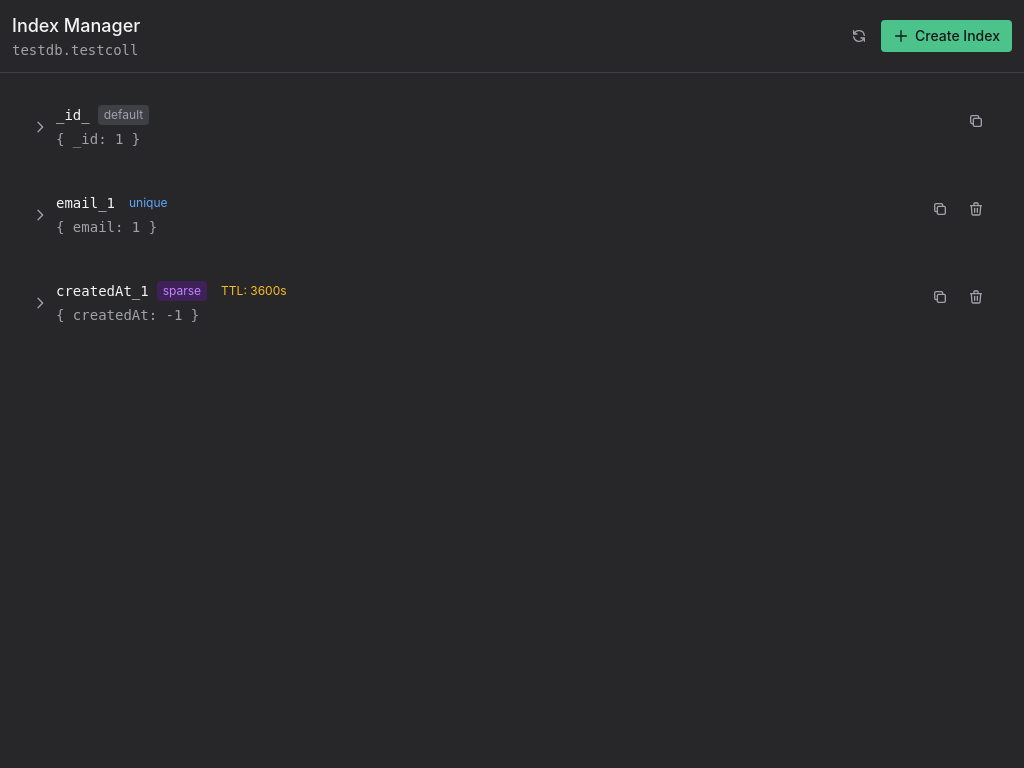
Scenario: IndexView › create index form › hides create form when Hide Form button is clicked
Expected: the text "Create Index" is shown, [915,26,1000,46]
Click the button "Create Index" at (947, 36), box [881,20,1012,52]
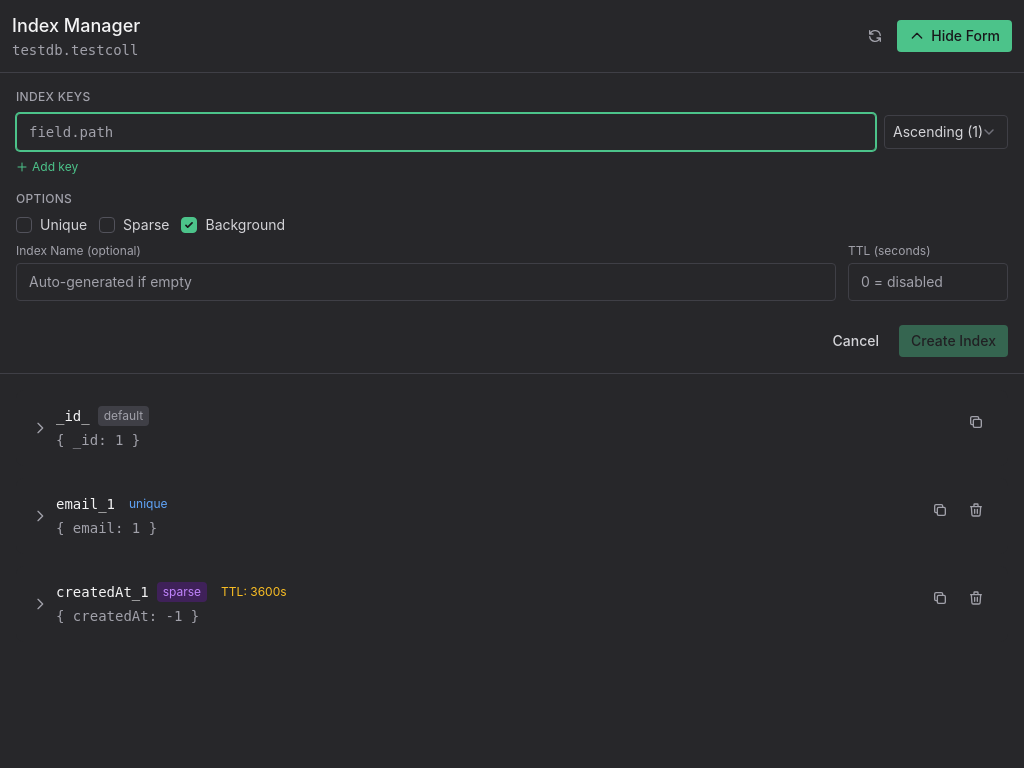
Expected: the text "Hide Form" is shown, [931,26,1000,46]
Click the button "Hide Form" at (955, 36), box [897,20,1012,52]
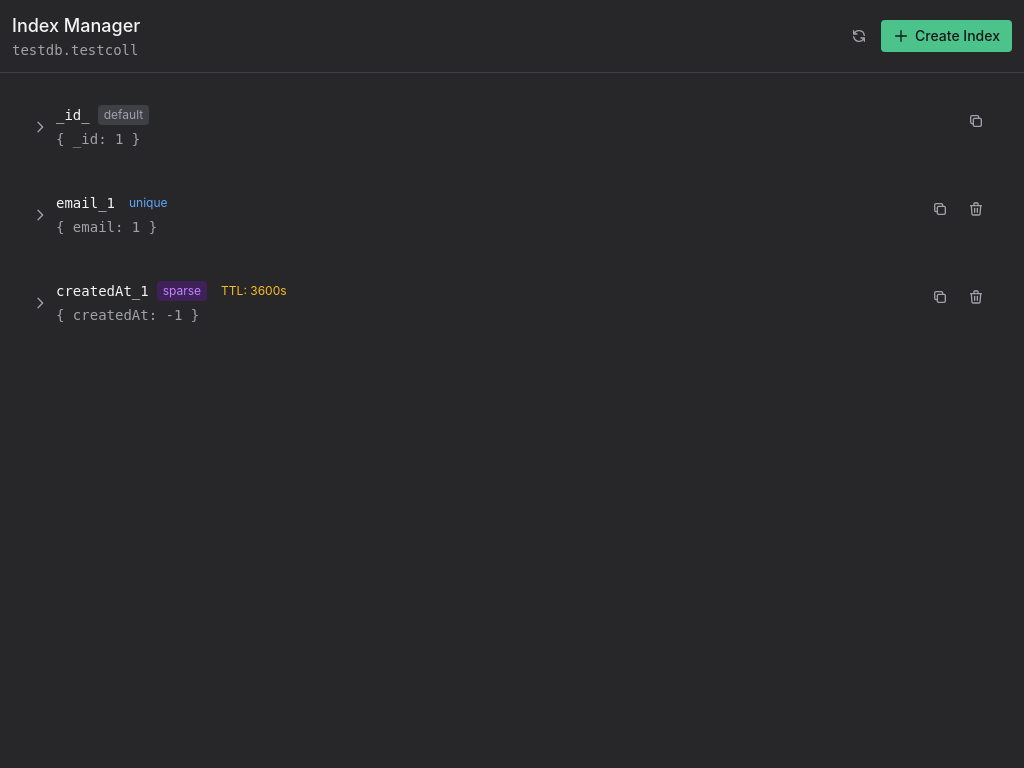
Expected: the text "Create Index" is shown, [915,26,1000,46]
